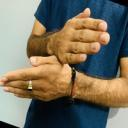hand: (50, 8, 110, 65), (0, 56, 71, 103)
